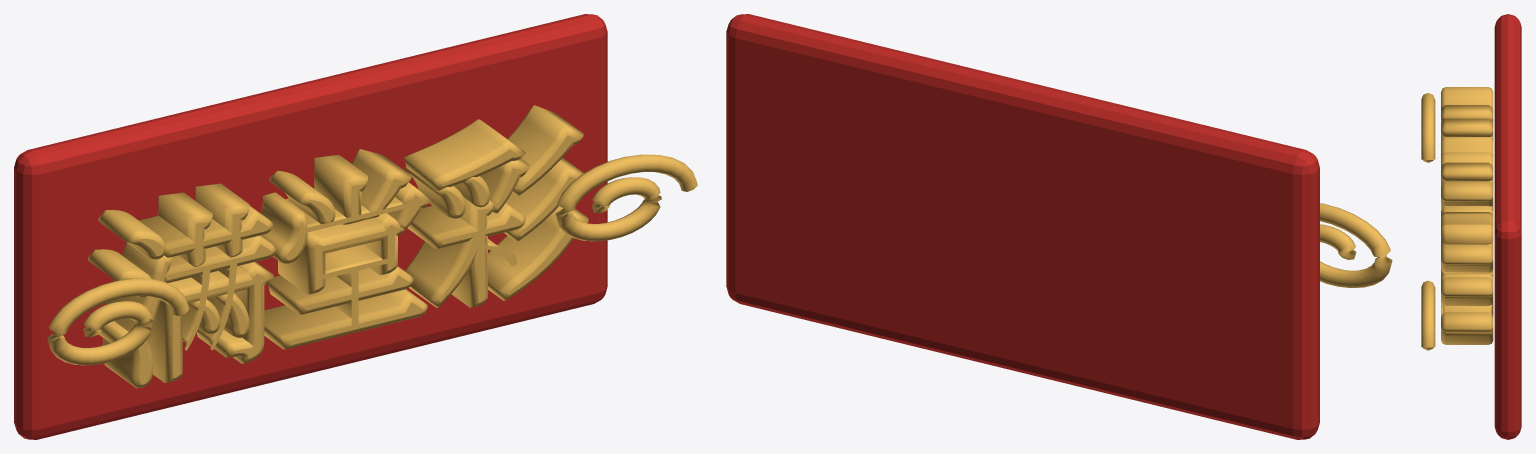
File: word-full-house.glb
The picture shows the model from 3 angles, left to right: view 1: azimuth 30°, elevation 25°; view 2: azimuth 150°, elevation 25°; view 3: azimuth 270°, elevation 25°; orthographic projection. The views are drawn at different scales.
Parts seen in each view (by area): view 1: word-full-house; view 2: word-full-house; view 3: word-full-house.
Part boxes in pixels (left/top/right/bottom): word-full-house: left=14, top=14, right=697, bottom=439; word-full-house: left=726, top=14, right=1392, bottom=439; word-full-house: left=1421, top=14, right=1521, bottom=439.
Size of the model in its own units: 1.45 by 0.6159 by 0.258.
